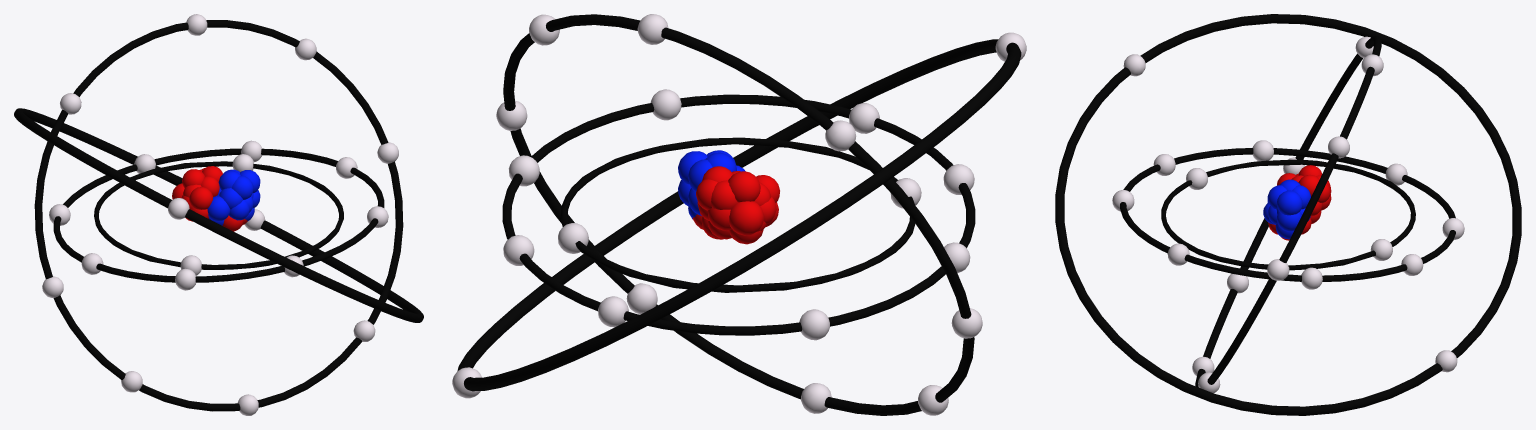
Rendered from 21 Escandio.fbx.
The picture shows the model from 3 angles, left to right: view 1: azimuth 30°, elevation 25°; view 2: azimuth 150°, elevation 25°; view 3: azimuth 270°, elevation 25°; orthographic projection. The views are drawn at different scales.
Visible parts, largest first — view 1: Orbita.003, Orbita.004, Orbita.002, Orbita.001, Neutron.006, Neutron.004, Neutron.001, Sphere.013, Electron.003, Electron.014; view 2: Orbita.004, Orbita.003, Orbita.002, Orbita.001, Neutron.005, Neutron.006, Sphere.008, Electron.008, Electron.013, Electron.007, Electron.016, Electron.009 (+16 smaller); view 3: Orbita.004, Orbita.003, Orbita.002, Orbita.001, Neutron.006, Neutron.003.
Boxes of the visible parts, bbox=[...] form: Orbita.003: bbox=[34, 20, 403, 411]; Orbita.004: bbox=[14, 108, 423, 322]; Orbita.002: bbox=[53, 148, 384, 282]; Orbita.001: bbox=[94, 161, 343, 269]; Neutron.006: bbox=[223, 169, 260, 199]; Neutron.004: bbox=[218, 170, 242, 209]; Neutron.001: bbox=[207, 194, 230, 225]; Sphere.013: bbox=[189, 187, 212, 209]; Electron.003: bbox=[175, 268, 195, 290]; Electron.014: bbox=[42, 276, 63, 297]; Orbita.004: bbox=[457, 39, 1021, 391]; Orbita.003: bbox=[503, 14, 974, 415]; Orbita.002: bbox=[502, 94, 975, 335]; Orbita.001: bbox=[561, 137, 915, 292]; Neutron.005: bbox=[729, 197, 776, 244]; Neutron.006: bbox=[678, 150, 735, 191]; Sphere.008: bbox=[728, 171, 760, 202]; Electron.008: bbox=[650, 89, 681, 120]; Electron.013: bbox=[825, 120, 856, 151]; Electron.007: bbox=[799, 309, 829, 340]; Electron.016: bbox=[626, 283, 657, 314]; Electron.009: bbox=[598, 296, 628, 327]; Orbita.004: bbox=[1055, 14, 1521, 415]; Orbita.003: bbox=[1195, 36, 1381, 387]; Orbita.002: bbox=[1120, 148, 1455, 281]; Orbita.001: bbox=[1161, 159, 1415, 270]; Neutron.006: bbox=[1267, 185, 1310, 215]; Neutron.003: bbox=[1268, 206, 1310, 239].
Bounding box in the file's own units: 14.16 × 12.38 × 11.32.
